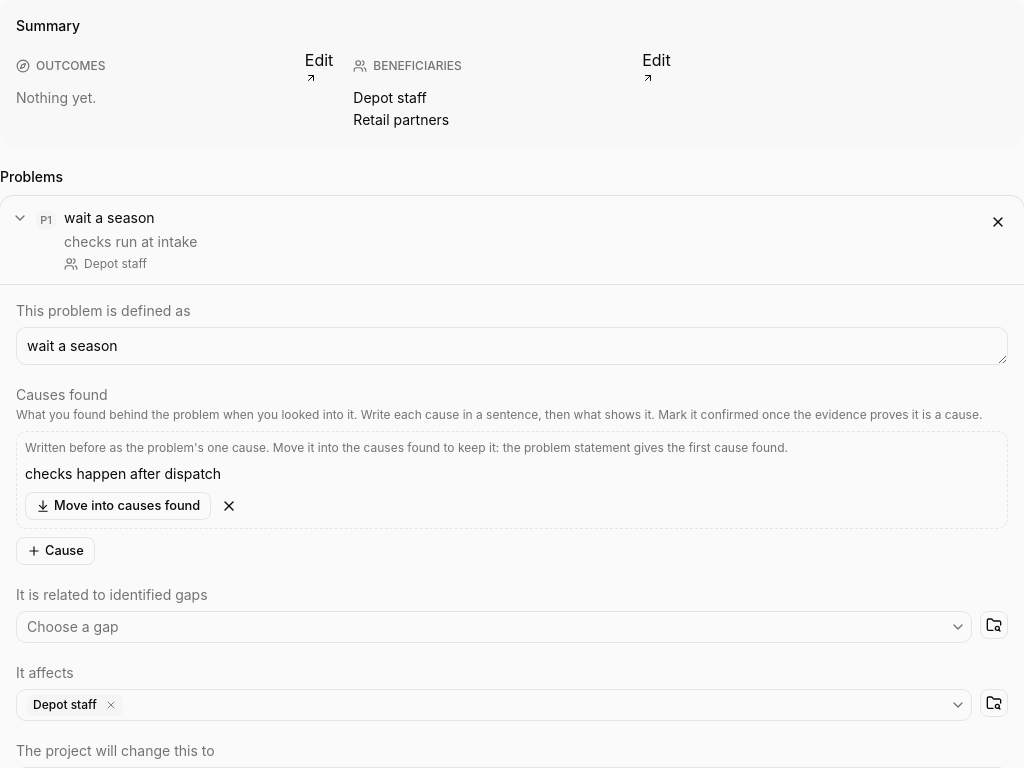
Test: the aim step holds every problem the project answers › offers only the project's own beneficiary groups
Click the dropdown named "Affected groups" at (75, 705), box x1=16 y1=689 x2=972 y2=721
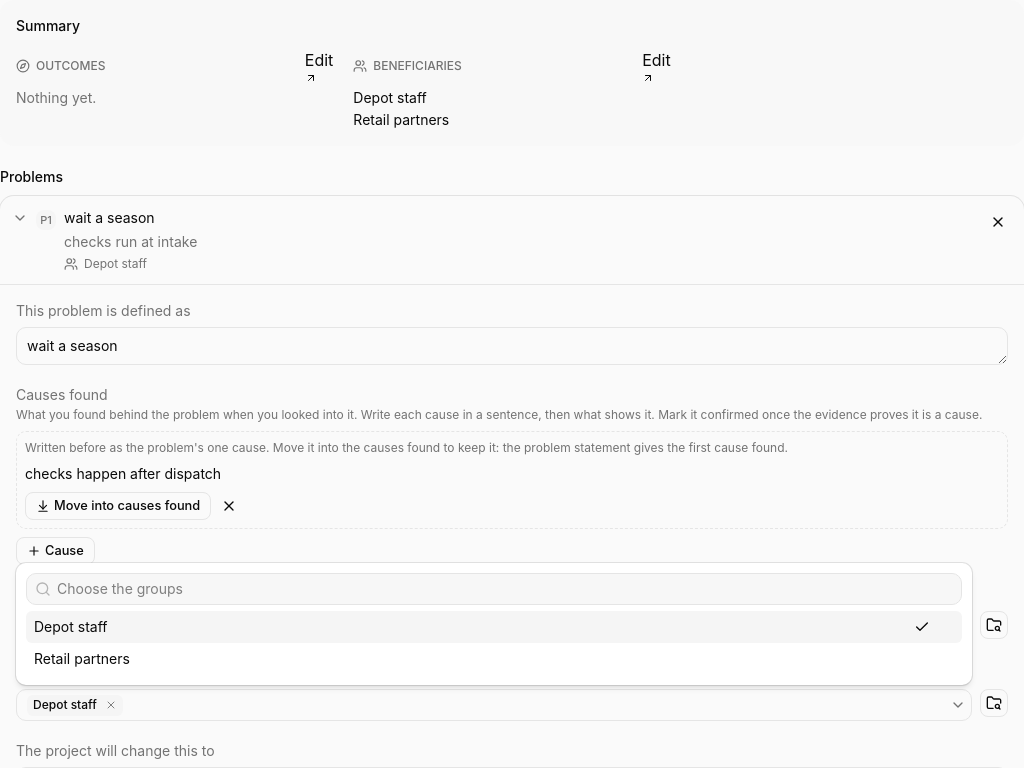
Expected: the options read "Depot staff", "Retail partners", in this order, x1=26 y1=611 x2=962 y2=643; x1=34 y1=650 x2=130 y2=667
